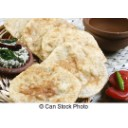poori: (44, 44, 109, 94), (11, 66, 80, 102), (40, 30, 105, 67), (24, 15, 77, 51)
